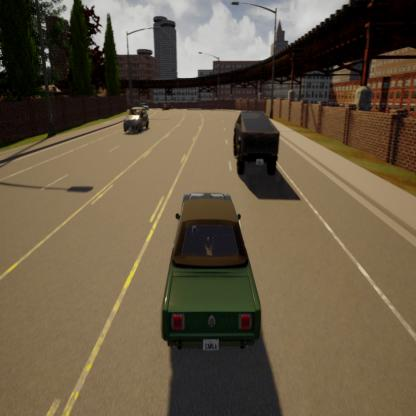Cars: (156, 181, 268, 362), (227, 106, 282, 183), (119, 101, 151, 138)
